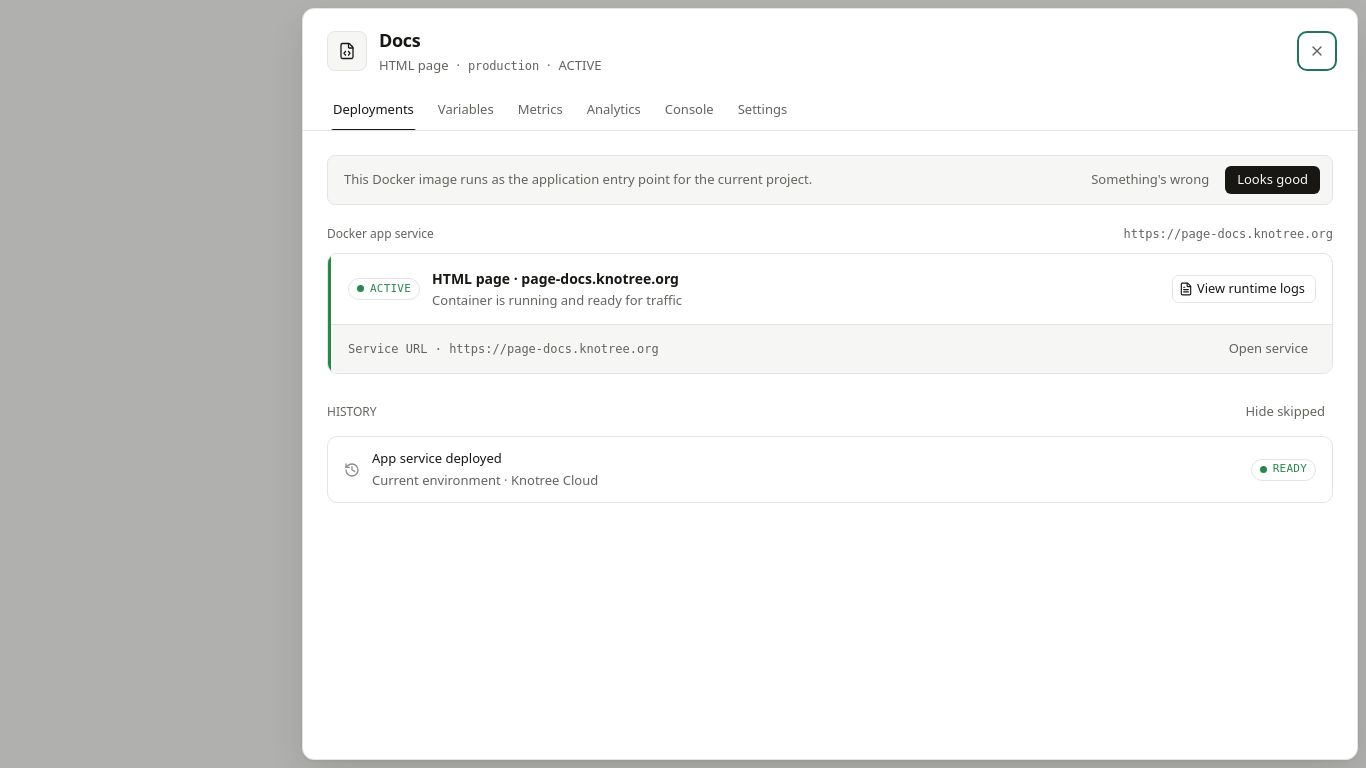
Scenario: ResourceWorkspace settings pane › shows injected HTML analytics on the dashboard
Click the tab "Analytics" at (614,110), box x1=577 y1=90 x2=651 y2=130
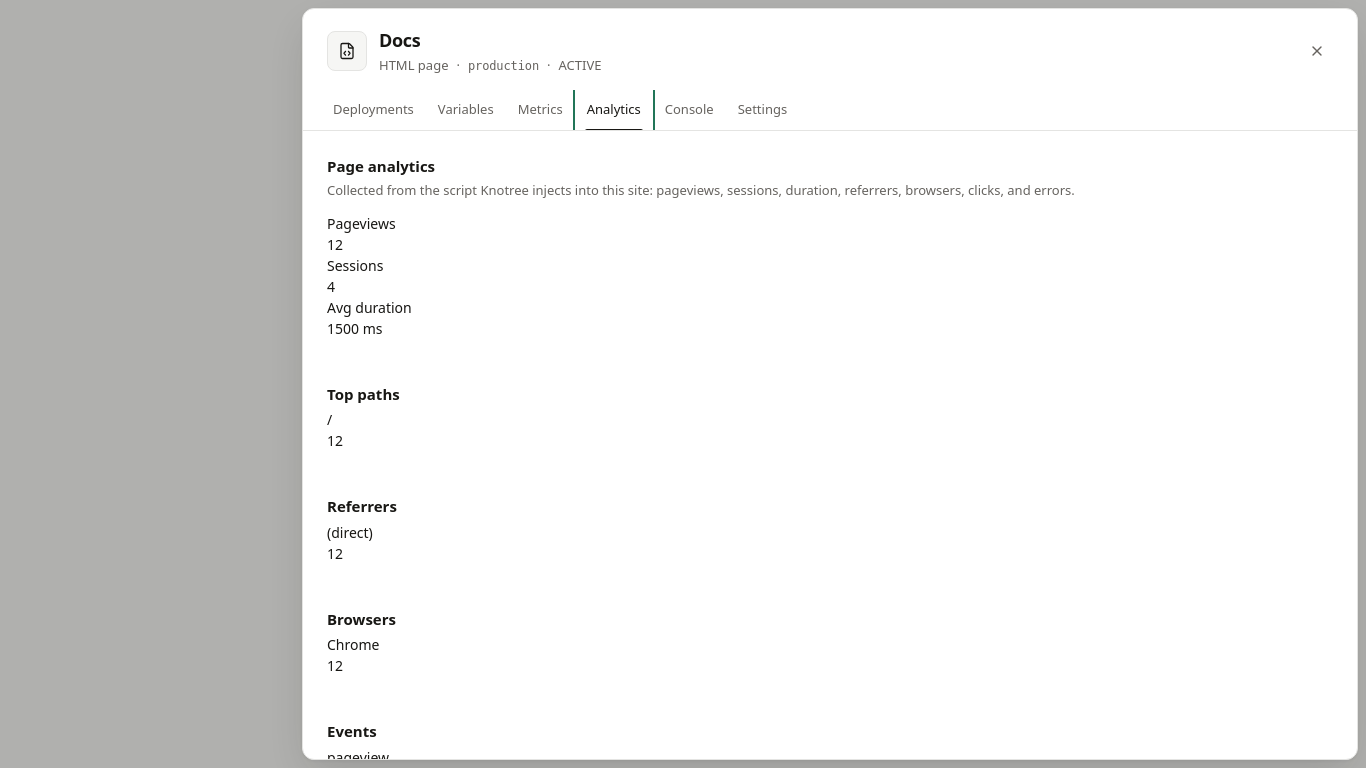
Expected: the heading "Page analytics" is shown, x1=327 y1=156 x2=435 y2=176
Expected: the text "Pageviews" is shown, x1=327 y1=214 x2=396 y2=232
Expected: the text "Chrome" is shown, x1=327 y1=635 x2=380 y2=654
